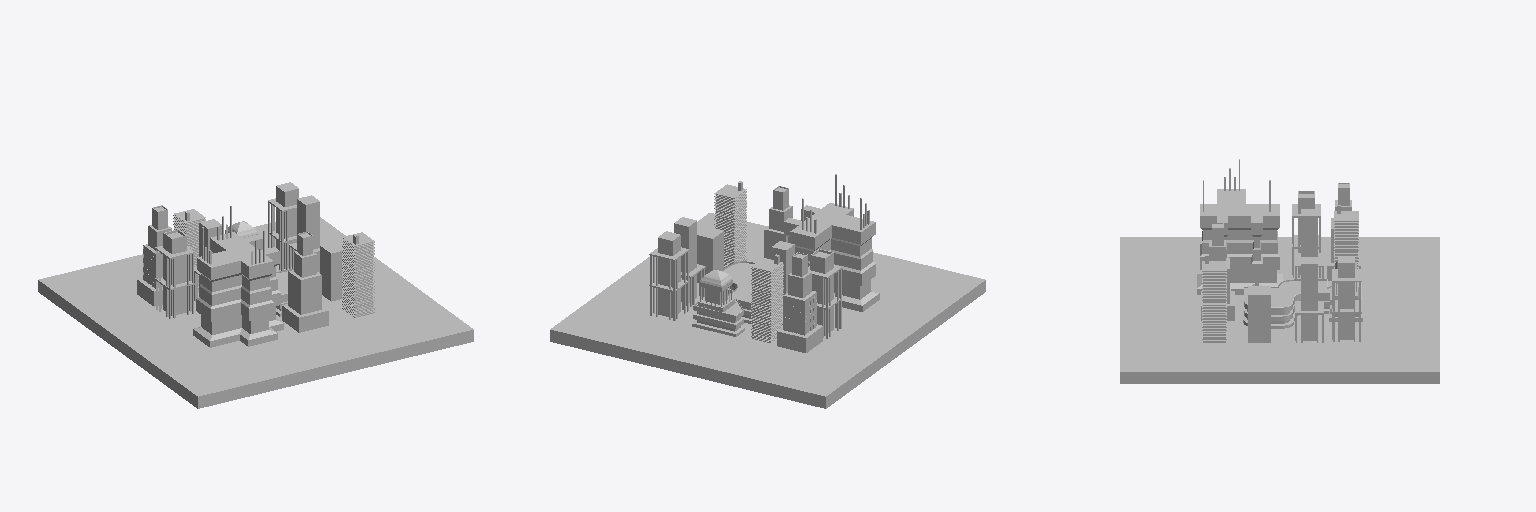
File: cityblock.obj
3 renders of one model, left to right at view 1: azimuth 30°, elevation 25°; view 2: azimuth 150°, elevation 25°; view 3: azimuth 270°, elevation 25°, orthographic.
Visible parts, largest first — view 1: cityblock; view 2: cityblock; view 3: cityblock.
Boxes of the visible parts, x1=… form: cityblock: x1=38, y1=182, x2=473, y2=408; cityblock: x1=550, y1=174, x2=985, y2=408; cityblock: x1=1120, y1=159, x2=1439, y2=383.
Size of the model in its own units: 186 by 78.52 by 187.